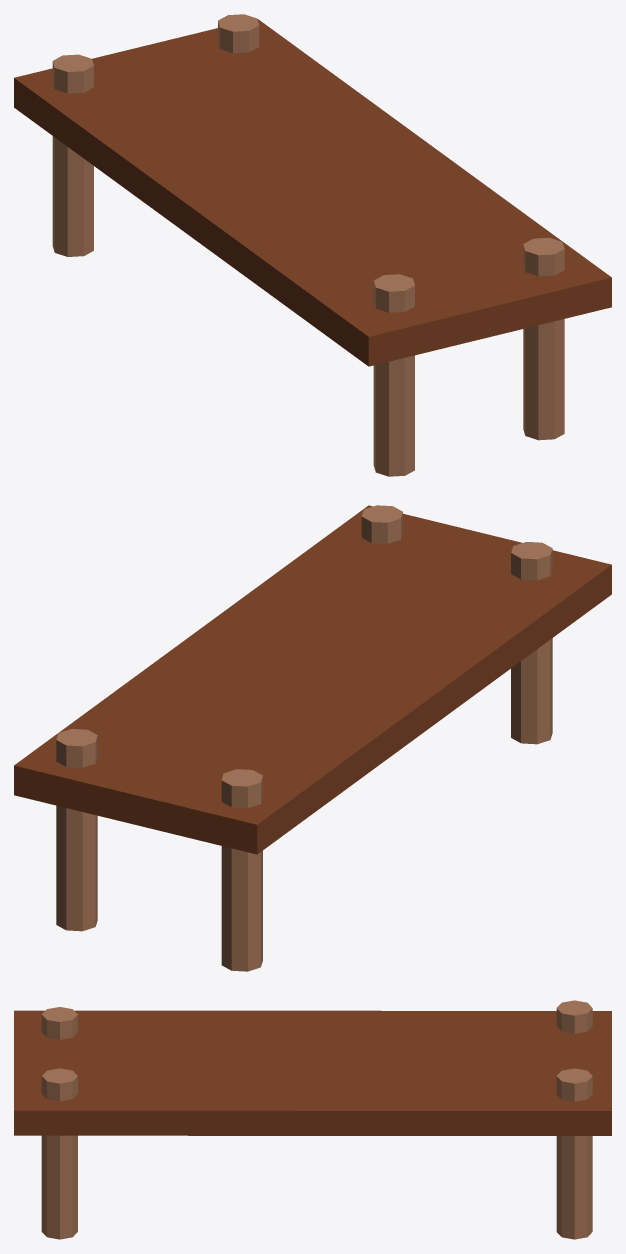
File: Path.fbx
The picture shows the model from 3 angles, top to bottom: view 1: azimuth 30°, elevation 25°; view 2: azimuth 150°, elevation 25°; view 3: azimuth 270°, elevation 25°; orthographic projection. The views are drawn at different scales.
Visible parts, largest first — view 1: Dock, Cylinder.056, Cylinder.055, Cylinder.060, Cylinder.057; view 2: Dock, Cylinder.060, Cylinder.057, Cylinder.055, Cylinder.056; view 3: Dock, Cylinder.056, Cylinder.057, Cylinder.060, Cylinder.055.
Boxes of the visible parts, <box> form: Dock: <box>14,19,611,366</box>; Cylinder.056: <box>523,237,564,440</box>; Cylinder.055: <box>373,274,414,476</box>; Cylinder.060: <box>52,54,93,256</box>; Cylinder.057: <box>218,14,259,53</box>; Dock: <box>14,505,611,854</box>; Cylinder.060: <box>221,769,262,971</box>; Cylinder.057: <box>56,729,97,931</box>; Cylinder.055: <box>511,542,552,744</box>; Cylinder.056: <box>361,505,402,543</box>; Dock: <box>14,1010,611,1135</box>; Cylinder.056: <box>41,1068,77,1239</box>; Cylinder.057: <box>556,1068,592,1239</box>; Cylinder.060: <box>556,1000,592,1033</box>; Cylinder.055: <box>41,1007,77,1039</box>.
Bounding box in the file's own units: 800 × 581 × 2020.
